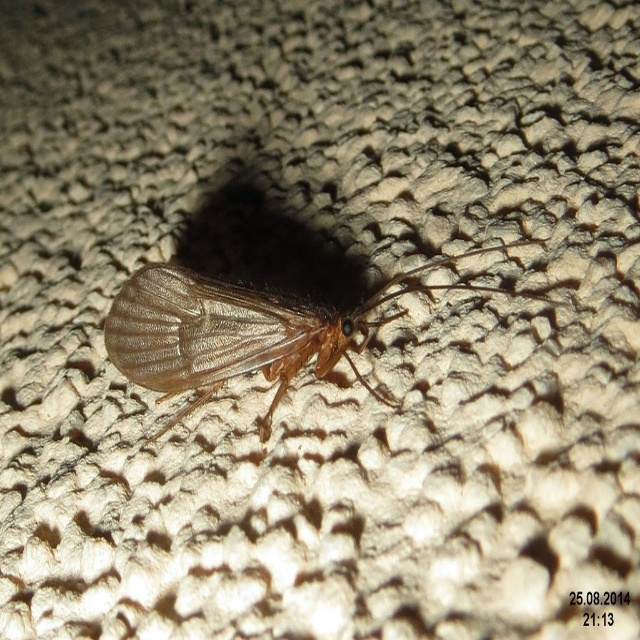Moths and butterflies: (101, 232, 582, 463)
